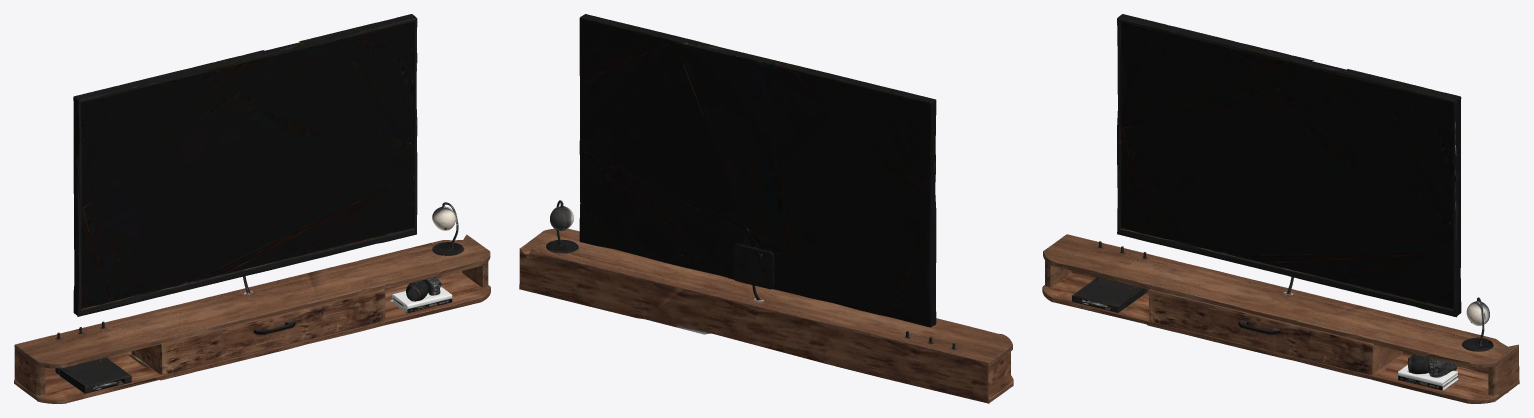
Rendered from floativa-com-products-rustic-brown-slim-floating-tv-stand-wa-b95550.glb.
The picture shows the model from 3 angles, left to right: view 1: azimuth 30°, elevation 25°; view 2: azimuth 150°, elevation 25°; view 3: azimuth 330°, elevation 25°; orthographic projection. The views are drawn at different scales.
Visible parts, largest first — view 1: Mesh_0; view 2: Mesh_0; view 3: Mesh_0.
Boxes of the visible parts, x1,y1,x2,y2 form: Mesh_0: (14, 14, 490, 403); Mesh_0: (519, 14, 1013, 403); Mesh_0: (1042, 14, 1519, 403).
Bounding box in the file's own units: 1.9 × 1.1 × 0.2751.
1 material, 1 textured.
